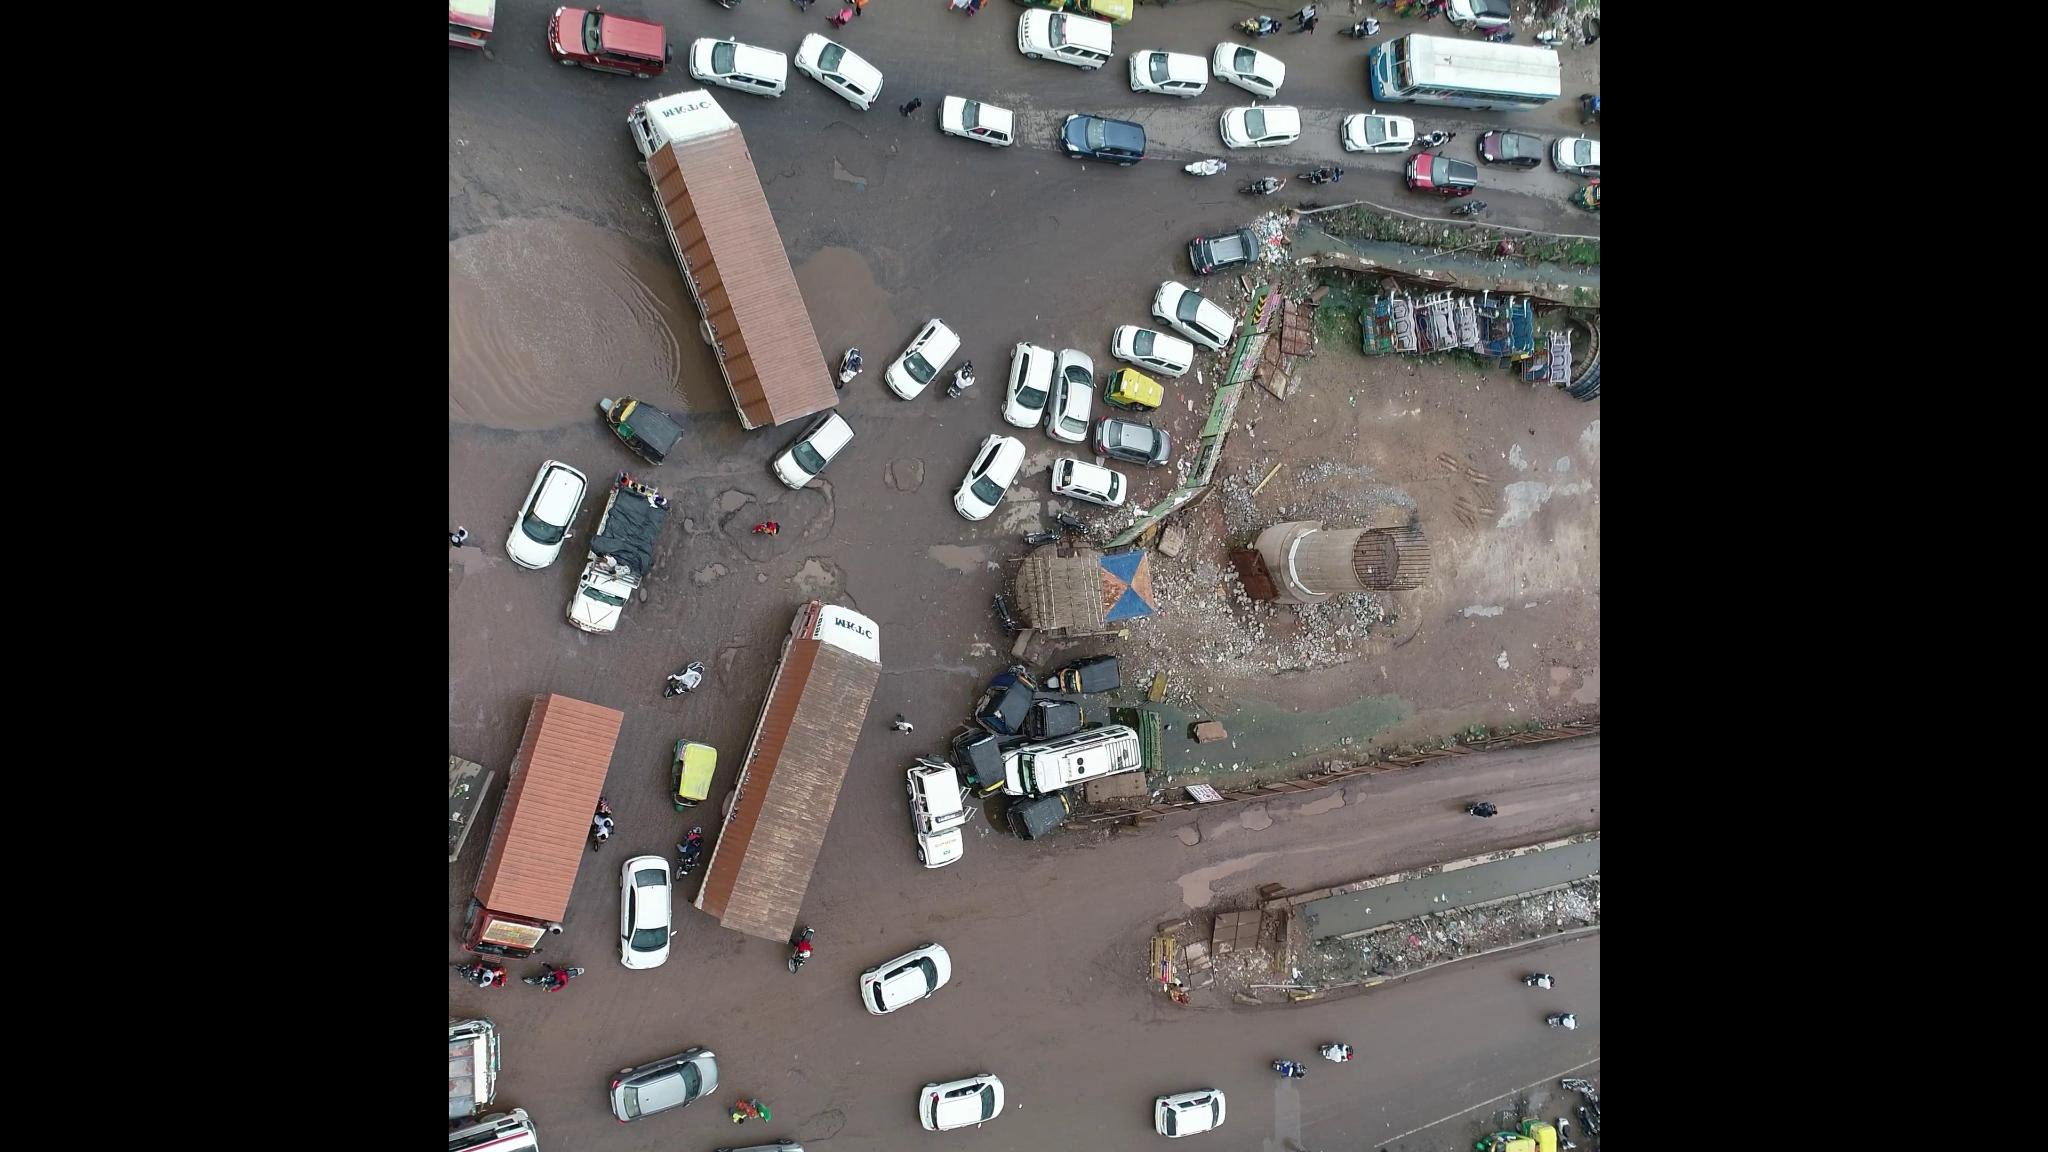Potholes: (623, 446, 840, 693)
